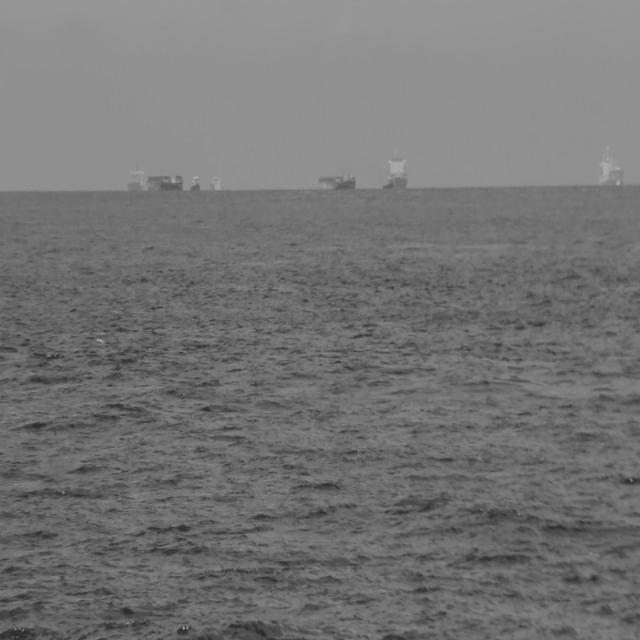ship: (126, 163, 184, 194), (380, 144, 410, 192), (597, 143, 624, 188), (317, 169, 357, 192), (189, 172, 202, 192)
